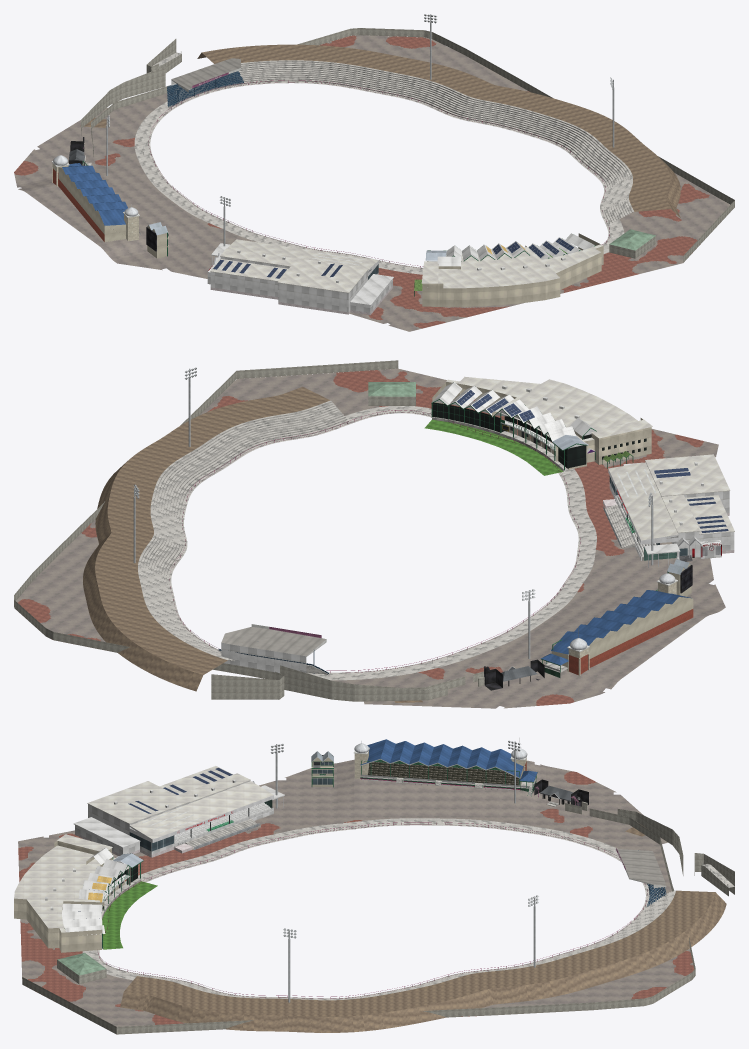
Rendered from fremantle_oval.glb.
3 renders of one model, top to bottom at view 1: azimuth 30°, elevation 25°; view 2: azimuth 150°, elevation 25°; view 3: azimuth 270°, elevation 25°, orthographic. The views are drawn at different scales.
Parts seen in each view (by area): view 1: ground_asphalt, terrace_bank, east_terrace, ground_pavers, apron, hq_flat_roof, hq_walls, boundary_wall, gj_rear_e_roof, pav_roof, gj_rear_e_walls, gj_roof_front (+12 smaller); view 2: ground_asphalt, terrace_bank, east_terrace, apron, boundary_wall, hq_flat_roof, ground_pavers, gj_roof_front, retain_225638067, gj_rear_e_roof, pav_roof, south_pavers (+17 smaller); view 3: ground_asphalt, terrace_bank, apron, boundary_wall, ground_pavers, hq_flat_roof, pav_roof, gj_roof_front, gj_rear_e_roof, east_terrace, pav_tiers, hq_roof (+16 smaller).
Part boxes in pixels (x1,y1,x2,y2): ground_asphalt: [14, 35, 734, 331]; terrace_bank: [197, 44, 680, 217]; east_terrace: [238, 60, 634, 223]; ground_pavers: [14, 35, 709, 328]; apron: [134, 81, 624, 274]; hq_flat_roof: [427, 244, 603, 288]; hq_walls: [422, 233, 603, 306]; boundary_wall: [91, 28, 734, 262]; gj_rear_e_roof: [277, 258, 368, 293]; pav_roof: [62, 165, 127, 225]; gj_rear_e_walls: [278, 270, 367, 312]; gj_roof_front: [227, 239, 378, 270]; ground_asphalt: [16, 368, 725, 708]; terrace_bank: [83, 387, 330, 691]; east_terrace: [138, 400, 348, 660]; apron: [166, 406, 596, 680]; boundary_wall: [14, 360, 490, 689]; hq_flat_roof: [446, 376, 637, 444]; ground_pavers: [18, 370, 703, 705]; gj_roof_front: [608, 462, 678, 540]; retain_225638067: [280, 665, 447, 701]; gj_rear_e_roof: [645, 454, 730, 496]; pav_roof: [551, 590, 691, 654]; south_pavers: [379, 393, 616, 539]; ground_asphalt: [18, 759, 693, 1033]; terrace_bank: [120, 890, 726, 1032]; apron: [82, 818, 649, 999]; boundary_wall: [22, 803, 695, 1034]; ground_pavers: [18, 771, 694, 1024]; hq_flat_roof: [14, 845, 129, 932]; pav_roof: [360, 739, 523, 777]; gj_roof_front: [130, 781, 273, 839]; gj_rear_e_roof: [87, 781, 190, 824]; east_terrace: [137, 890, 675, 1000]; pav_tiers: [367, 761, 520, 785]; hq_roof: [62, 859, 127, 934].
Size of the model in its own units: 227 by 32.67 by 255.
58 materials, 58 textured.
